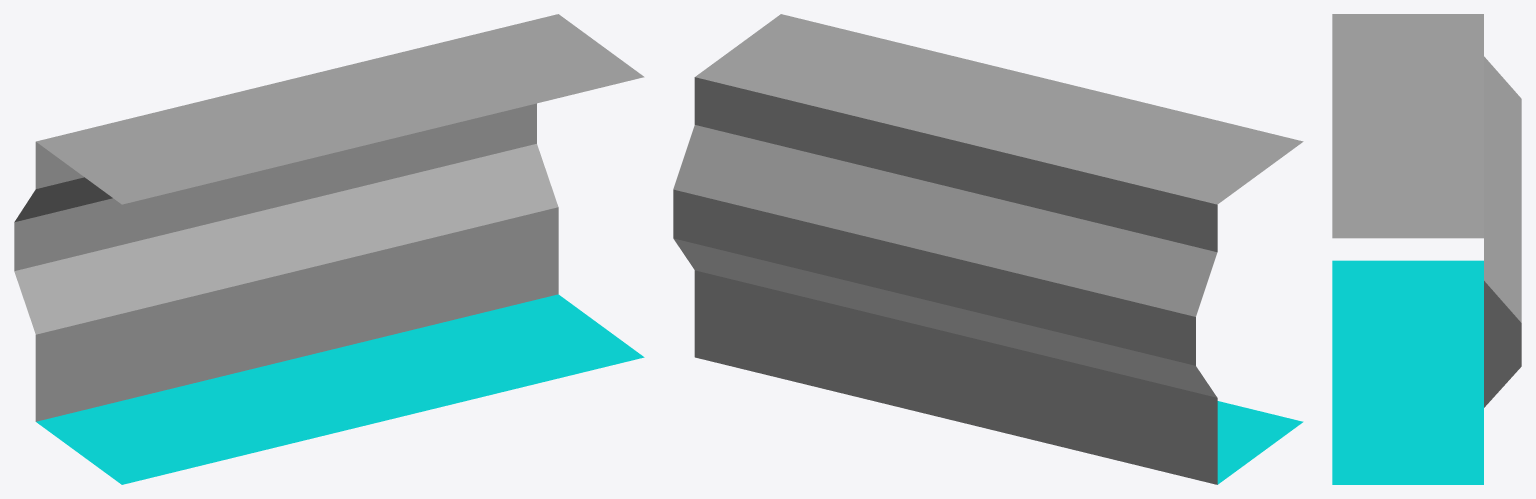
File: sm_hallway.fbx
3 renders of one model, left to right at view 1: azimuth 30°, elevation 25°; view 2: azimuth 150°, elevation 25°; view 3: azimuth 270°, elevation 25°, orthographic. The views are drawn at different scales.
Visible parts, largest first — view 1: sm_hallway; view 2: sm_hallway; view 3: sm_hallway.
Boxes of the visible parts, x1,y1,x2,y2 form: sm_hallway: (14,14,644,484); sm_hallway: (673,14,1303,484); sm_hallway: (1332,14,1521,484).
Size of the model in its own units: 14 by 7.17 by 5.
